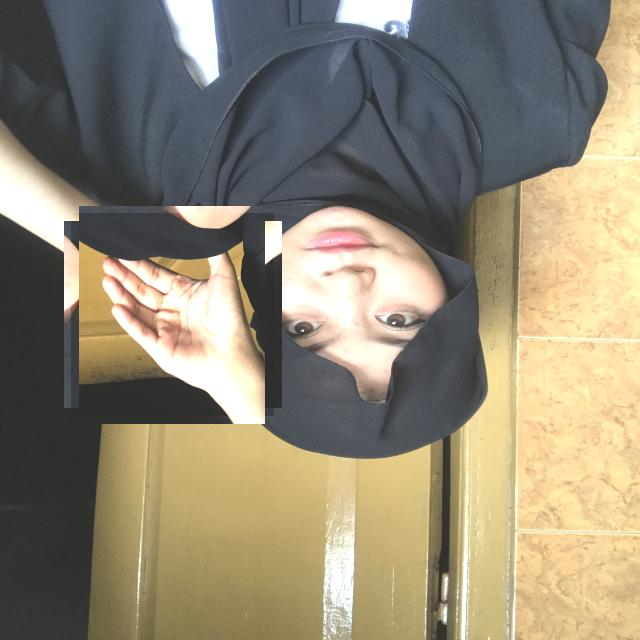mendengar: (71, 213, 274, 416)
